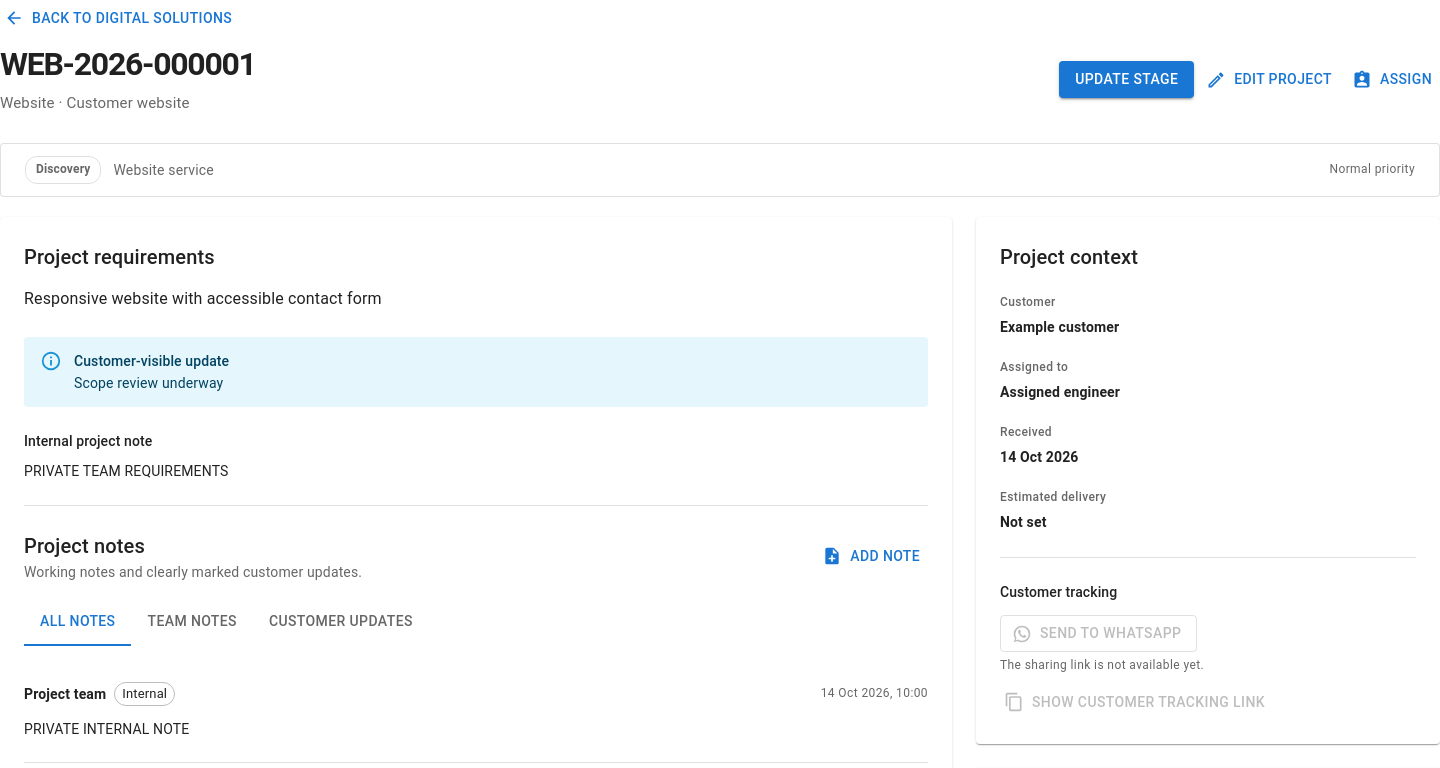
Scenario: digital workbench context and mutation recovery › locks a pending stage update and preserves the existing payload
Click the button "Update stage" at (1127, 80), box [1059, 61, 1194, 98]
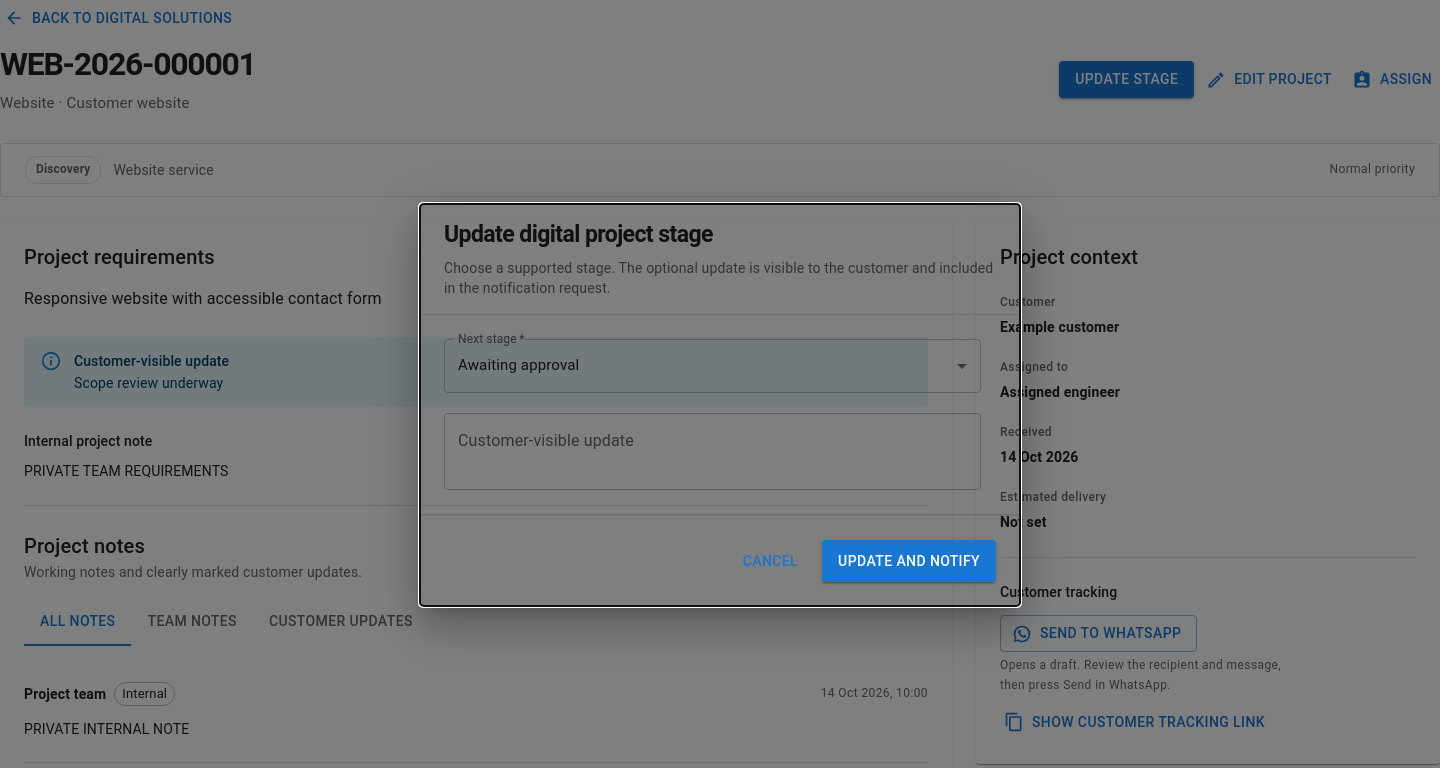
Type "Please review the agreed scope." into the text box labelled "Customer-visible update" at (712, 452), box [458, 430, 967, 474]
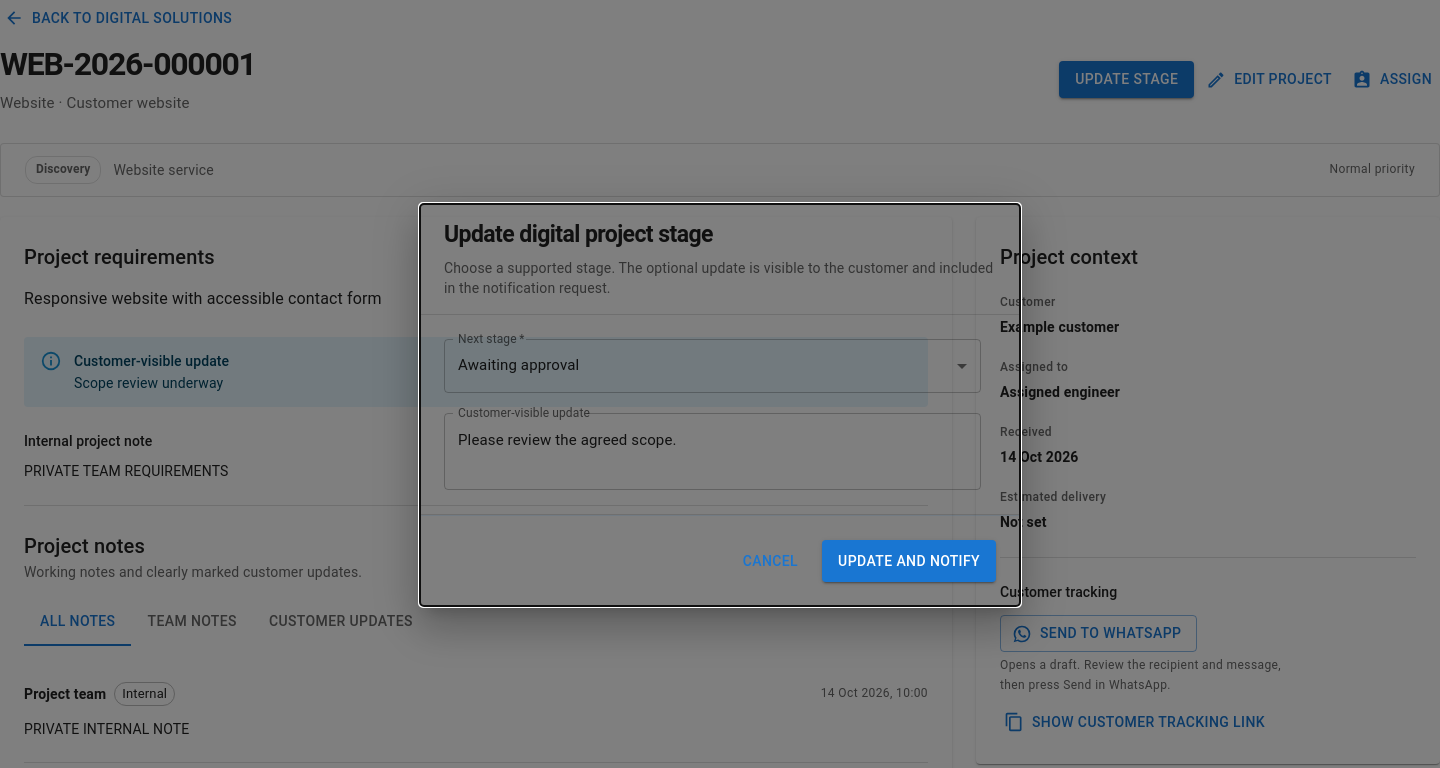
Click the button "Update and notify" at (909, 561), box [822, 540, 996, 582]
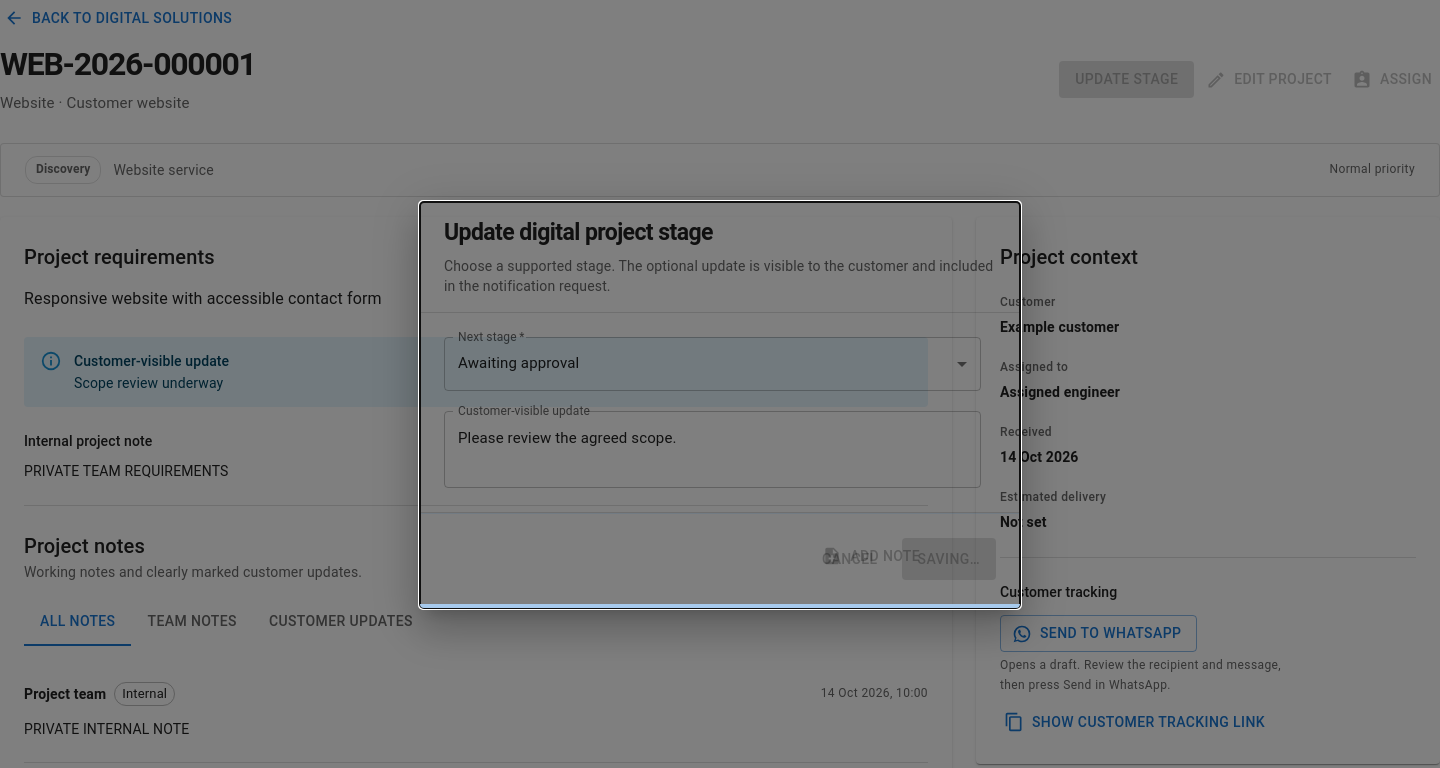
Expected: the button "Saving…" is disabled
Click the button "Saving…" at (949, 559), box [902, 538, 996, 580]
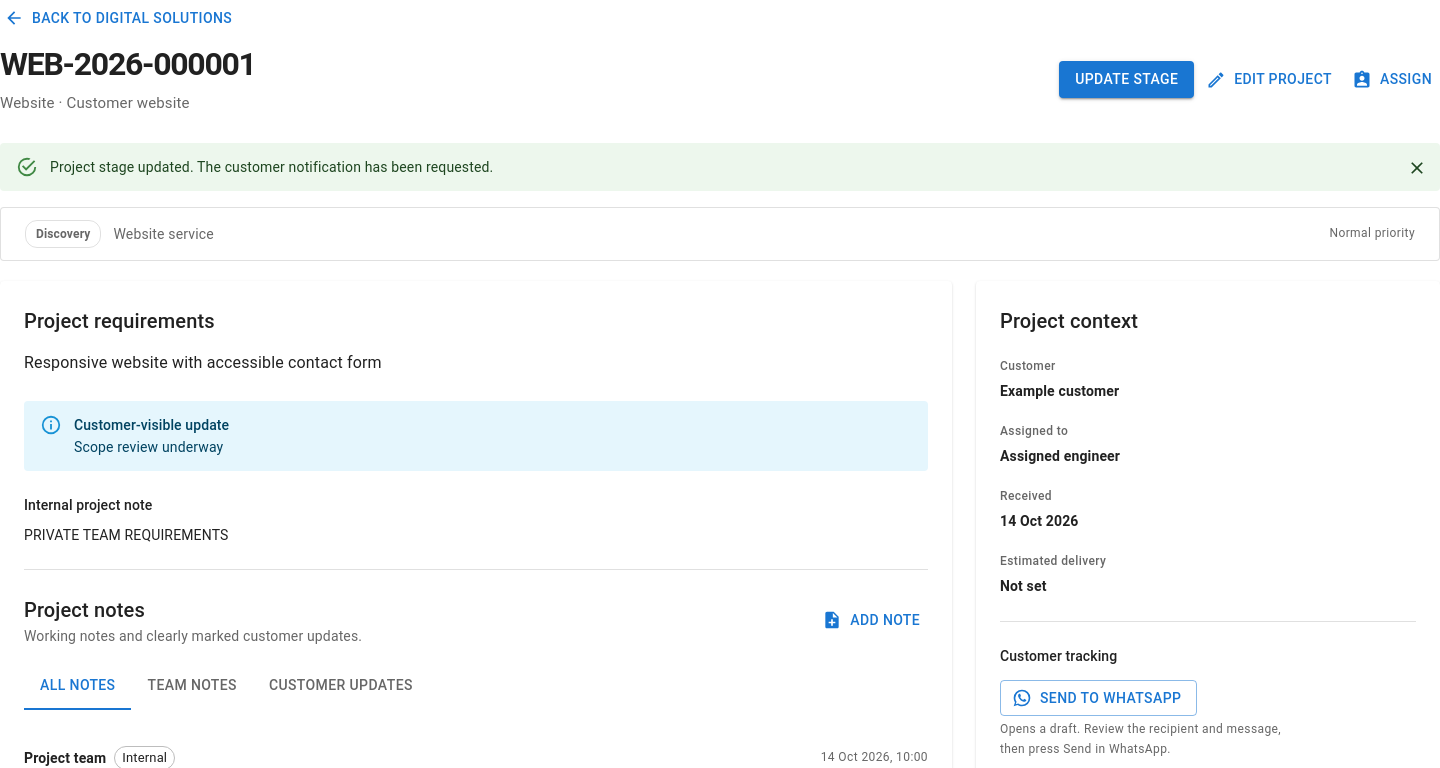
Expected: the text "Project stage updated. The customer notification has been requested." is shown, [50, 159, 493, 175]
